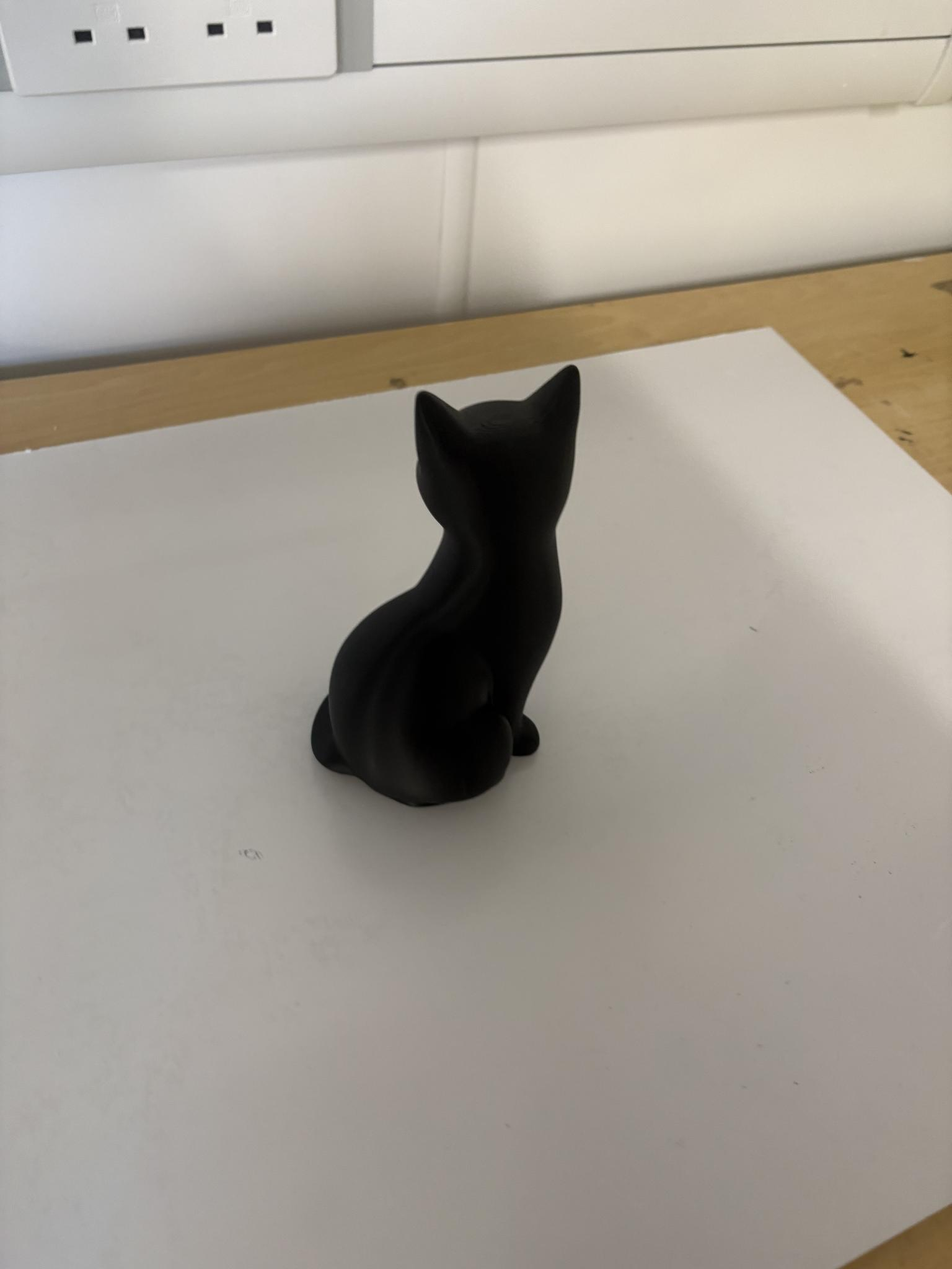cat: (312, 367, 580, 806)
